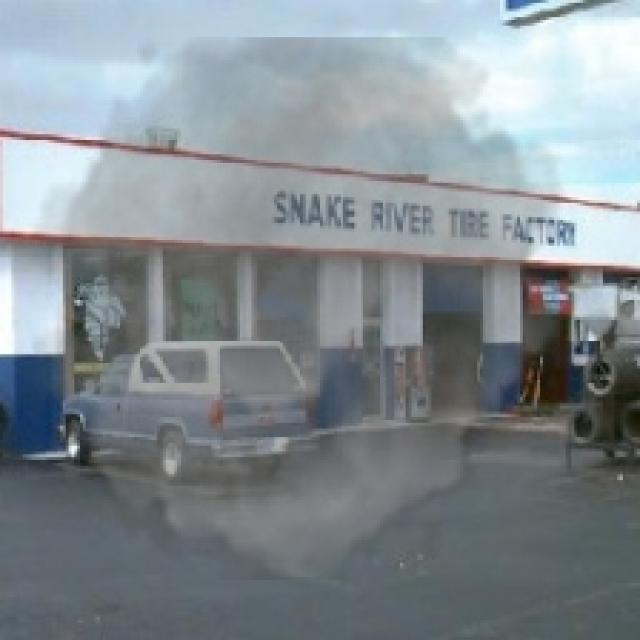smoke: (20, 37, 583, 580)
